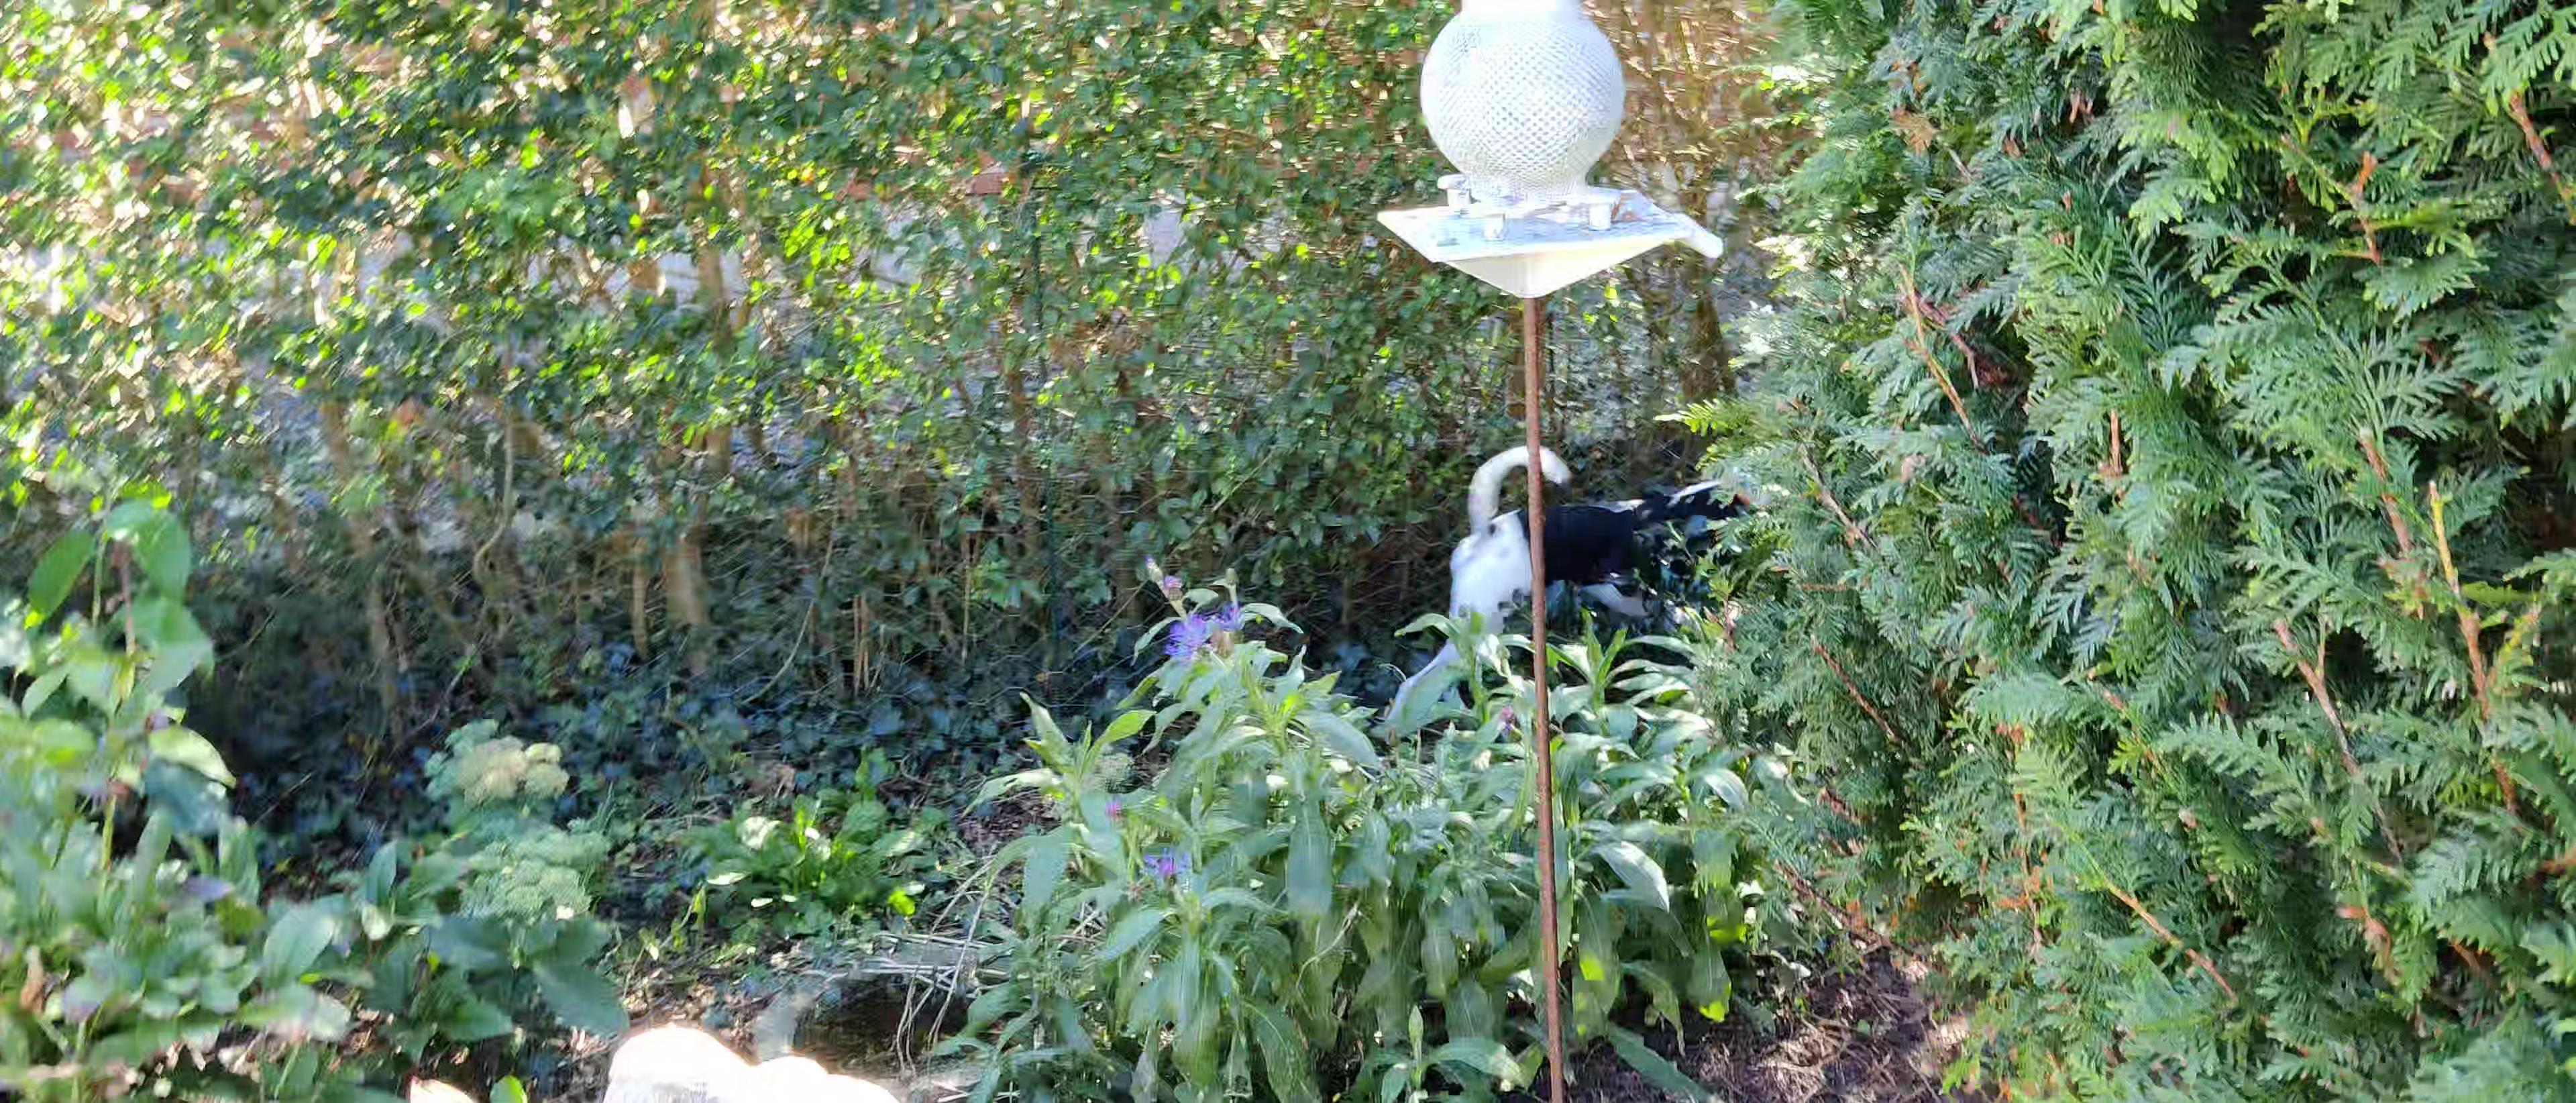Dog: (1359, 439, 1732, 731)
